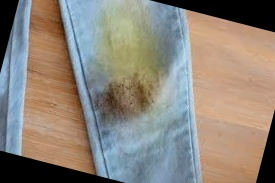earth: (89, 6, 173, 116)
